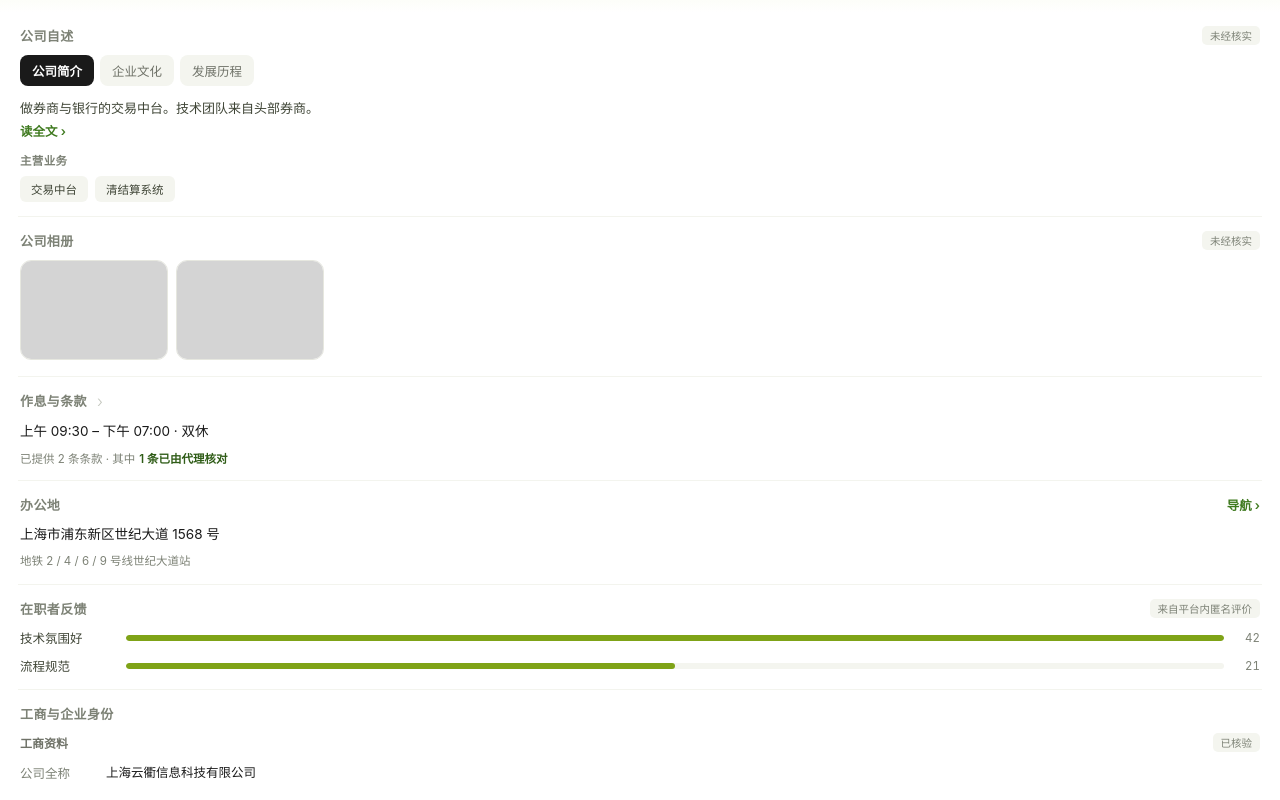
it: 企业公开页展示 · 作息与条款 › 条款层：已核/自述分组、缺说明标条款说明未知，操作指引文案保留
This screenshot has width=1280, height=800.
(page scrolled)
Click the text "作息与条款" at [54, 400], box 20,391 -> 87,410
(page scrolled)
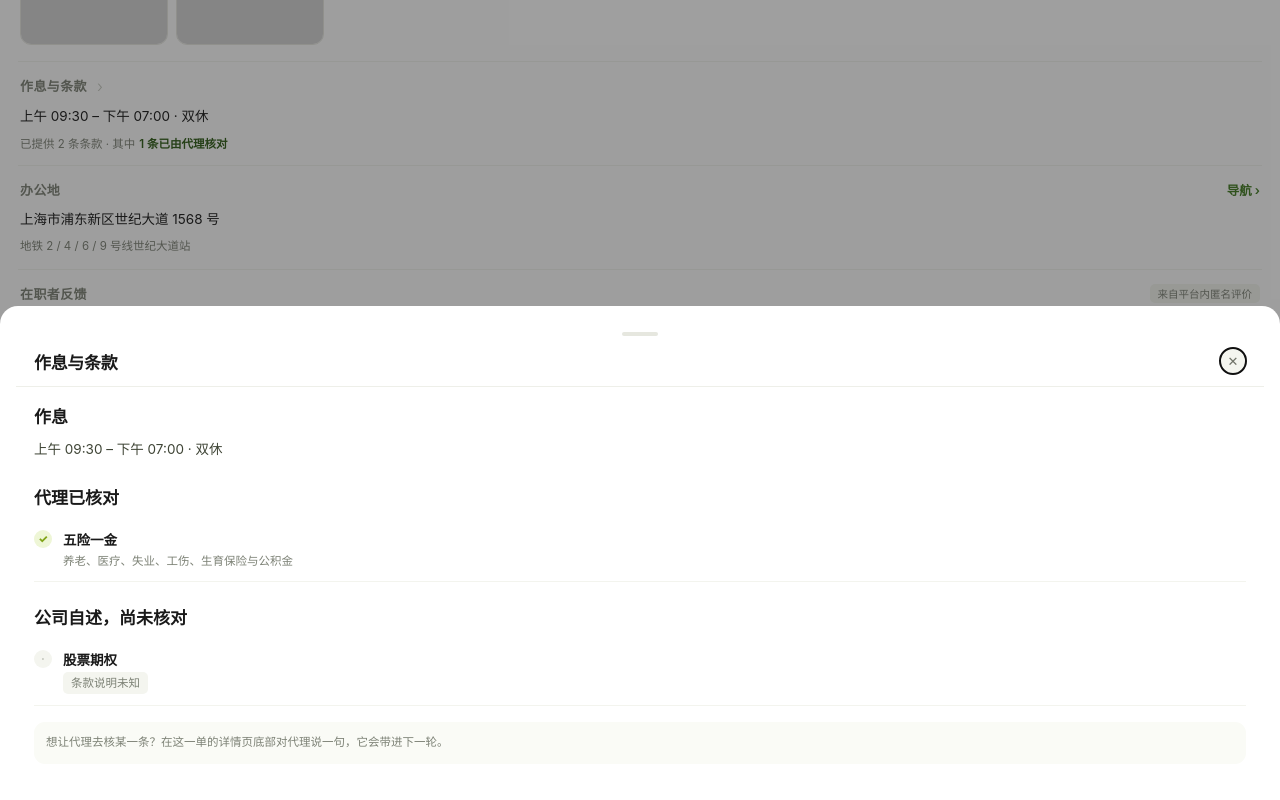
Expected: the text "五险一金" is shown, 63,532 -> 117,548
Expected: the text "养老、医疗、失业、工伤、生育保险与公积金" is shown, 63,554 -> 293,568
Expected: the text "股票期权" is shown, 63,652 -> 117,668
